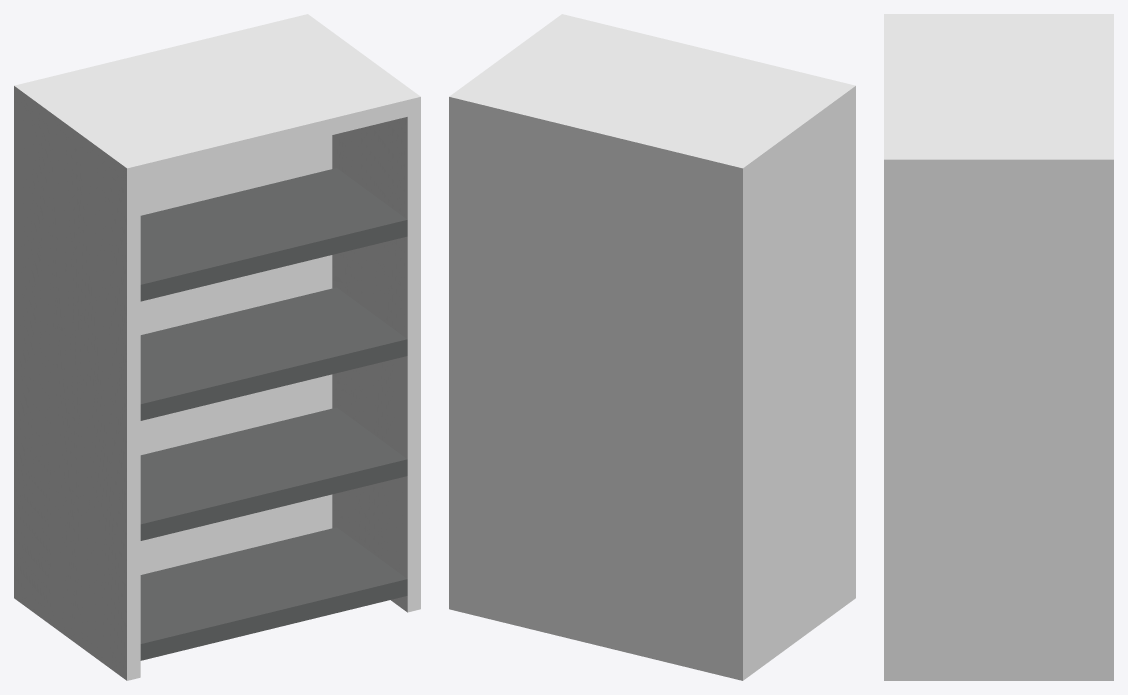
The model's file is DisplayShelf.fbx.
3 renders of one model, left to right at view 1: azimuth 30°, elevation 25°; view 2: azimuth 150°, elevation 25°; view 3: azimuth 270°, elevation 25°, orthographic.
Visible parts, largest first — view 1: Object005; view 2: Object005; view 3: Object005.
Part boxes in pixels (x1,y1,x2,y2): Object005: (14,14,420,680); Object005: (449,14,855,680); Object005: (884,14,1113,680).
Size of the model in its own units: 90 by 150 by 59.97.
Materials: 1 (1 with a texture image).
